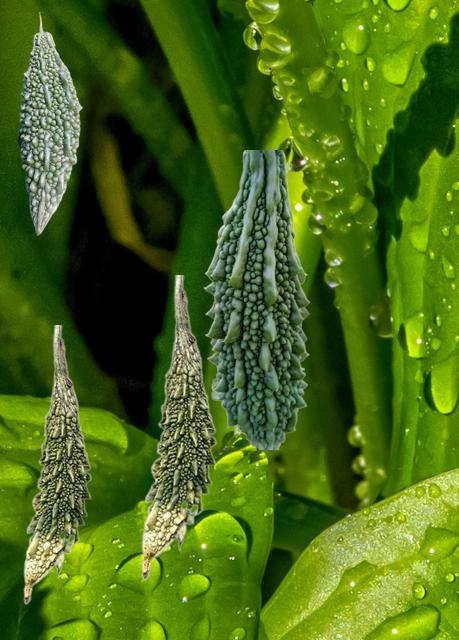ampalaya: (203, 150, 309, 448), (141, 275, 216, 580), (23, 325, 91, 604), (17, 12, 81, 234)
